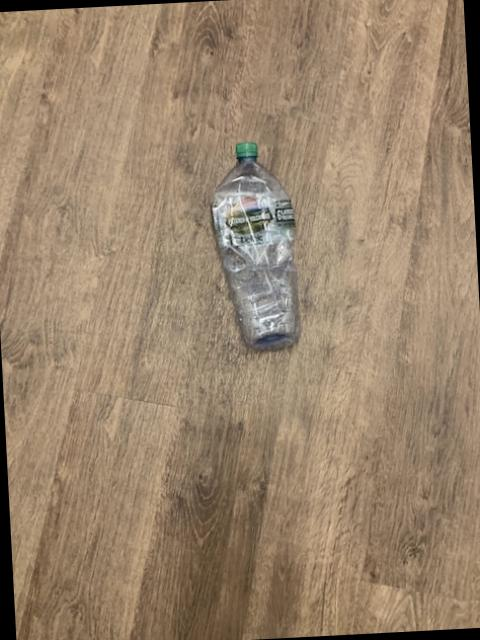plastic: (211, 141, 298, 347)
